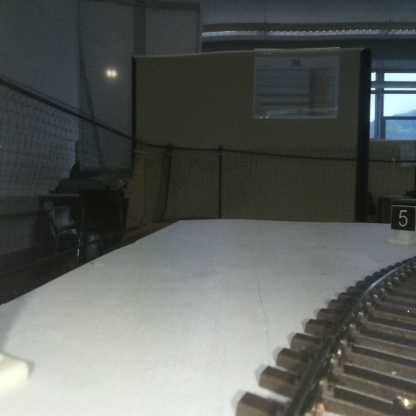black-stop-5: (391, 206, 415, 244)
